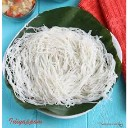idiyappam: (10, 29, 118, 101)
